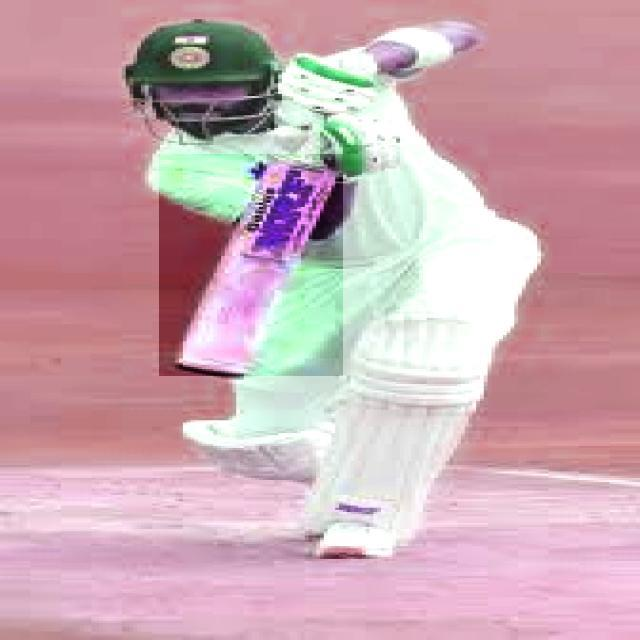bat: (159, 153, 340, 379)
toe: (176, 356, 247, 379)
